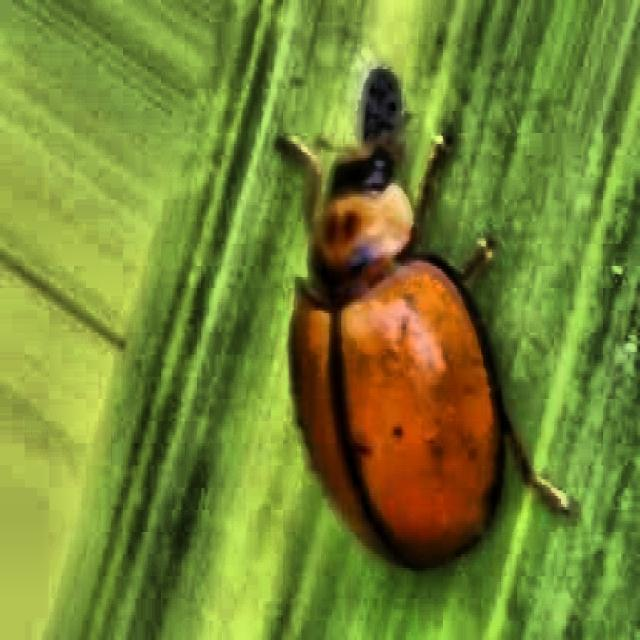Ladybug: (194, 0, 640, 640)
